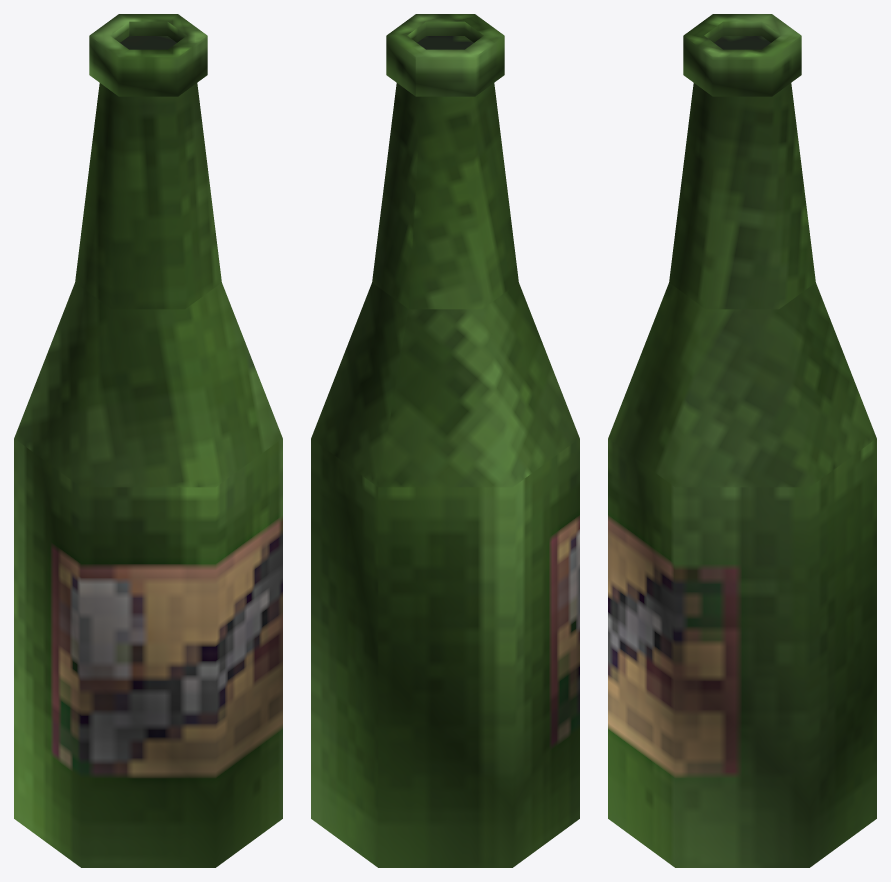
File: bottle.fbx
3 views of the same model, side by side, from view 1: azimuth 30°, elevation 25°; view 2: azimuth 150°, elevation 25°; view 3: azimuth 270°, elevation 25° (orthographic).
Visible parts, largest first — view 1: bottle; view 2: bottle; view 3: bottle.
Boxes of the visible parts, box(x1,y1,x2,y2) form: bottle: box(14, 14, 282, 867); bottle: box(311, 14, 579, 867); bottle: box(608, 14, 876, 867).
Size of the model in its own units: 11.2 by 41.59 by 12.93.
Materials: 1 (1 with a texture image).
